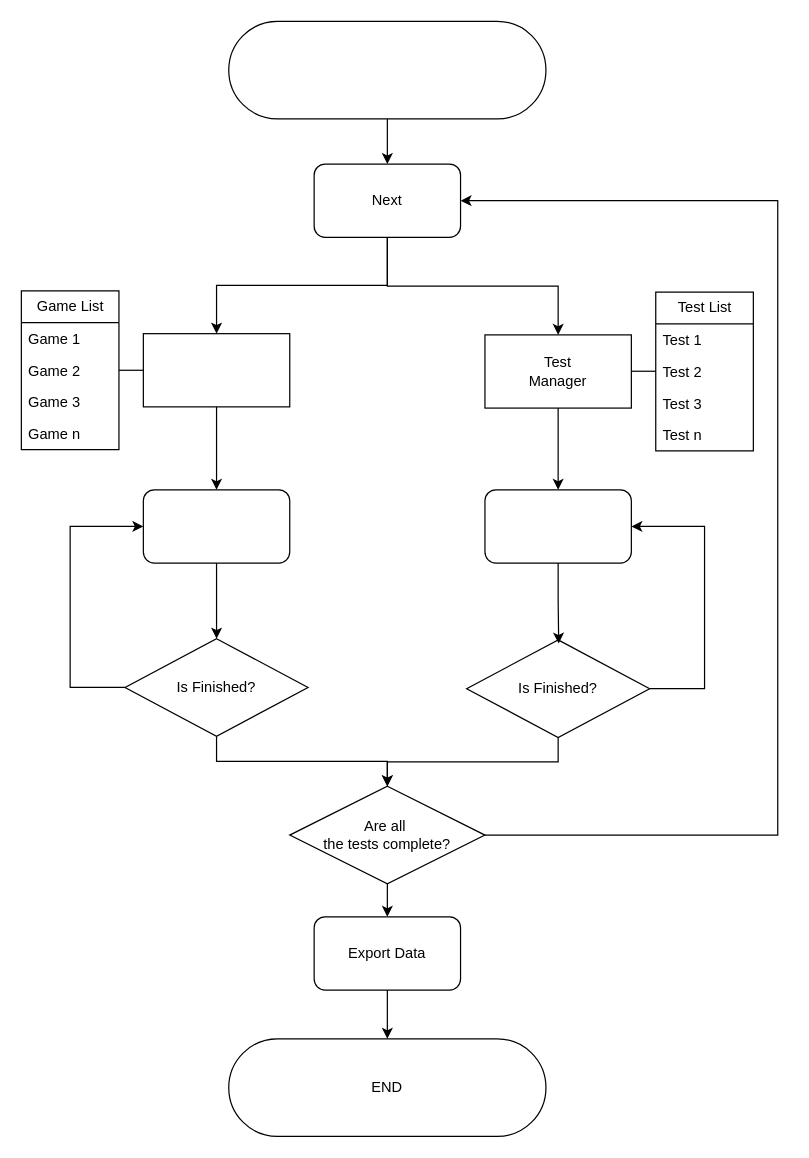
The diagram is 809 pixels wide and 1158 high, and some of its shapes have lost their labels. Each missing label, with the centre of its shape:
"Game Manager" belongs at point (216, 369).
"Game n Update()" belongs at point (216, 526).
"START" belongs at point (387, 69).
"Test n Check()" belongs at point (557, 526).
